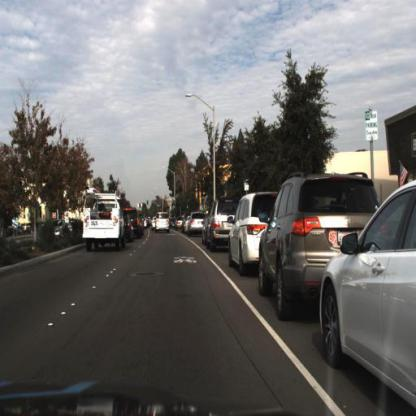car: (319, 180, 416, 415), (256, 166, 391, 324), (226, 189, 279, 277), (226, 185, 262, 287), (79, 185, 126, 257), (205, 194, 238, 256), (202, 195, 232, 259), (48, 210, 70, 244), (188, 206, 211, 238), (188, 210, 206, 241), (153, 211, 174, 236), (130, 205, 142, 240), (123, 207, 133, 246)
